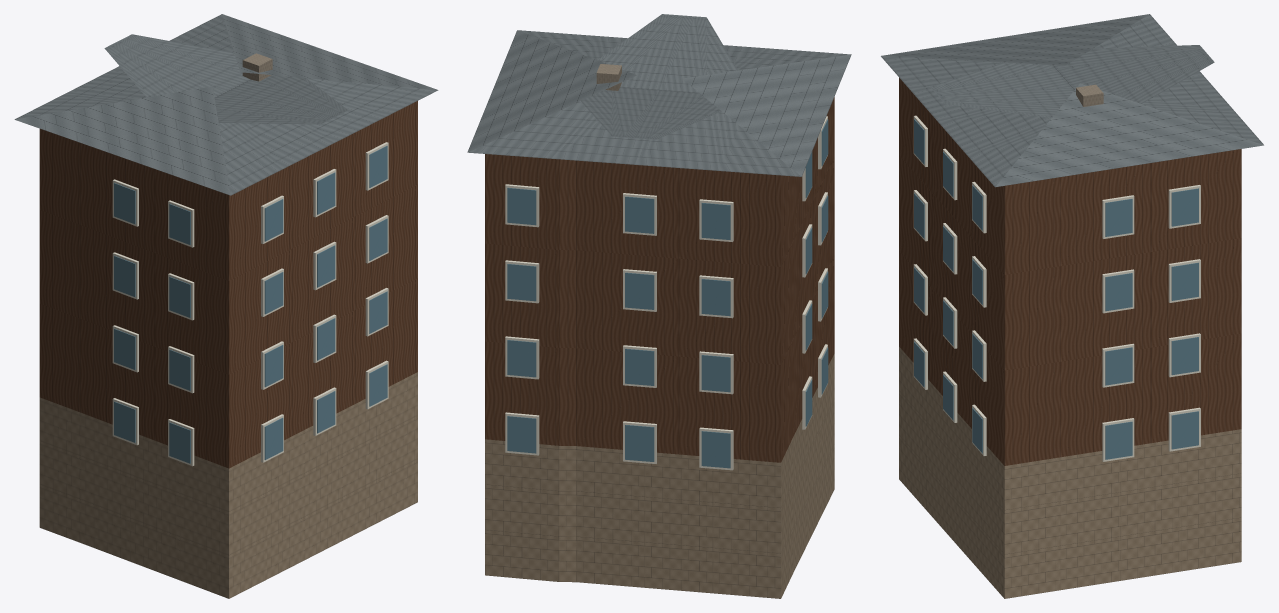
The model's file is core_0075.gltf.
3 renders of one model, left to right at view 1: azimuth 30°, elevation 25°; view 2: azimuth 150°, elevation 25°; view 3: azimuth 270°, elevation 25°, orthographic. The views are drawn at different scales.
Visible parts, largest first — view 1: core_0075; view 2: core_0075; view 3: core_0075.
Part boxes in pixels (left/top/right/bottom): core_0075: left=14, top=14, right=438, bottom=598; core_0075: left=467, top=14, right=851, bottom=598; core_0075: left=881, top=14, right=1263, bottom=598.
Size of the model in its own units: 14.27 by 17.25 by 13.36.
6 materials, 6 textured.
